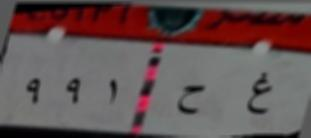1: (104, 72, 122, 108)
7aa: (172, 79, 210, 117)
9: (60, 72, 89, 109), (23, 70, 46, 111)
ghayn: (240, 67, 280, 122)
